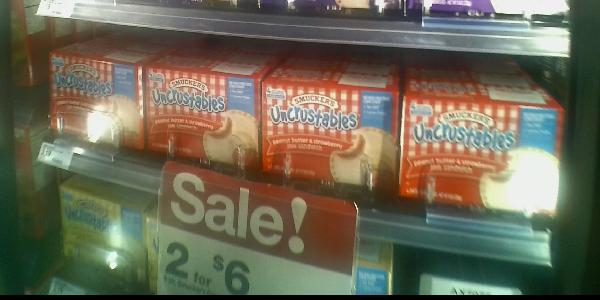icecream: (401, 86, 559, 218), (258, 76, 402, 205), (144, 63, 261, 177), (44, 43, 147, 154)
